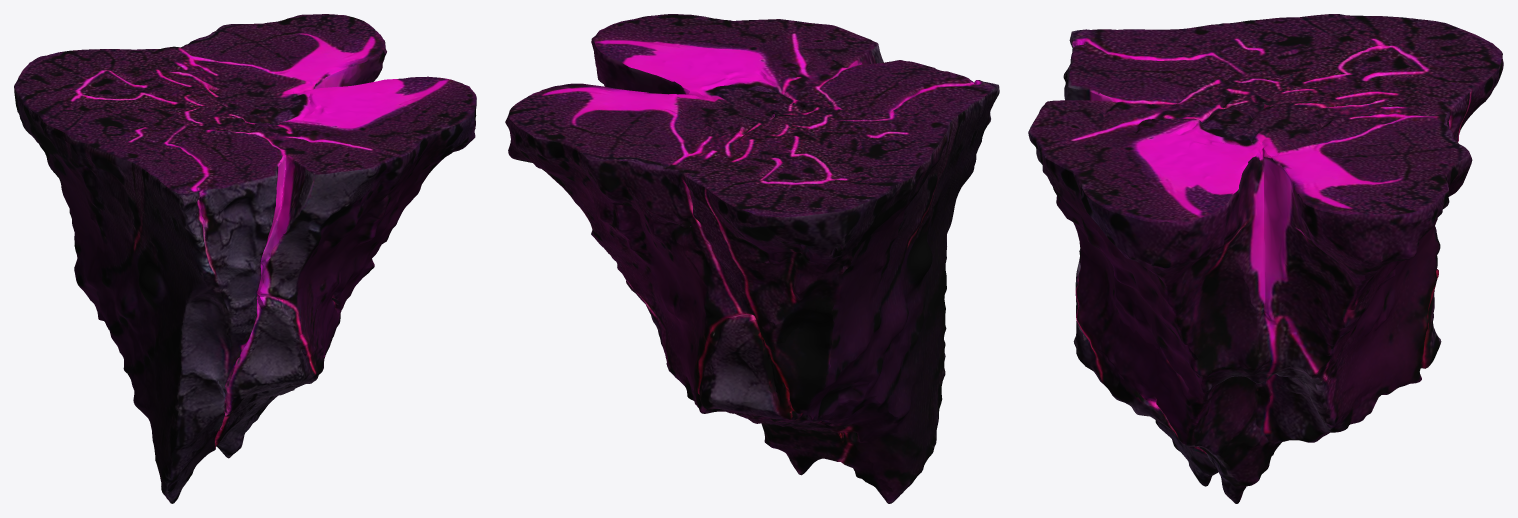
The model's file is shelf-break-6-generated-2026-05-17T20-50-14-459Z.high.glb.
3 renders of one model, left to right at view 1: azimuth 30°, elevation 25°; view 2: azimuth 150°, elevation 25°; view 3: azimuth 270°, elevation 25°, orthographic. The views are drawn at different scales.
Visible parts, largest first — view 1: temp_mesh.ply; view 2: temp_mesh.ply; view 3: temp_mesh.ply.
Boxes of the visible parts, x1,y1,x2,y2 form: temp_mesh.ply: [14, 14, 476, 503]; temp_mesh.ply: [505, 14, 999, 503]; temp_mesh.ply: [1028, 14, 1503, 503].
Bounding box in the file's own units: 1.96 × 1.88 × 1.88.
Materials: 1 (1 with a texture image).
